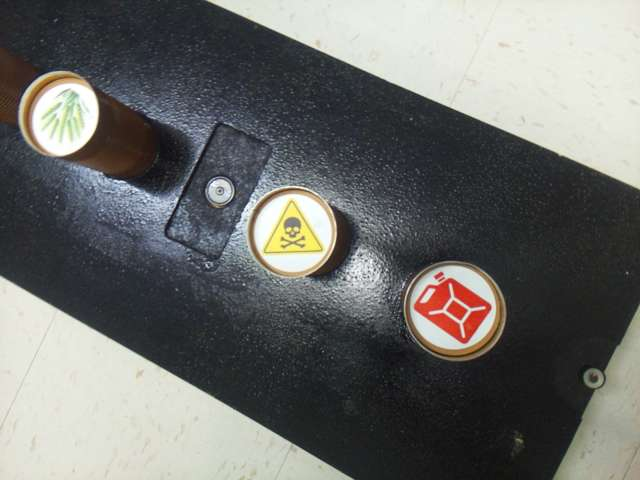gasoline: (409, 265, 497, 352)
toxic_fluid: (254, 192, 331, 272)
wheat_barrel: (33, 84, 96, 154)
